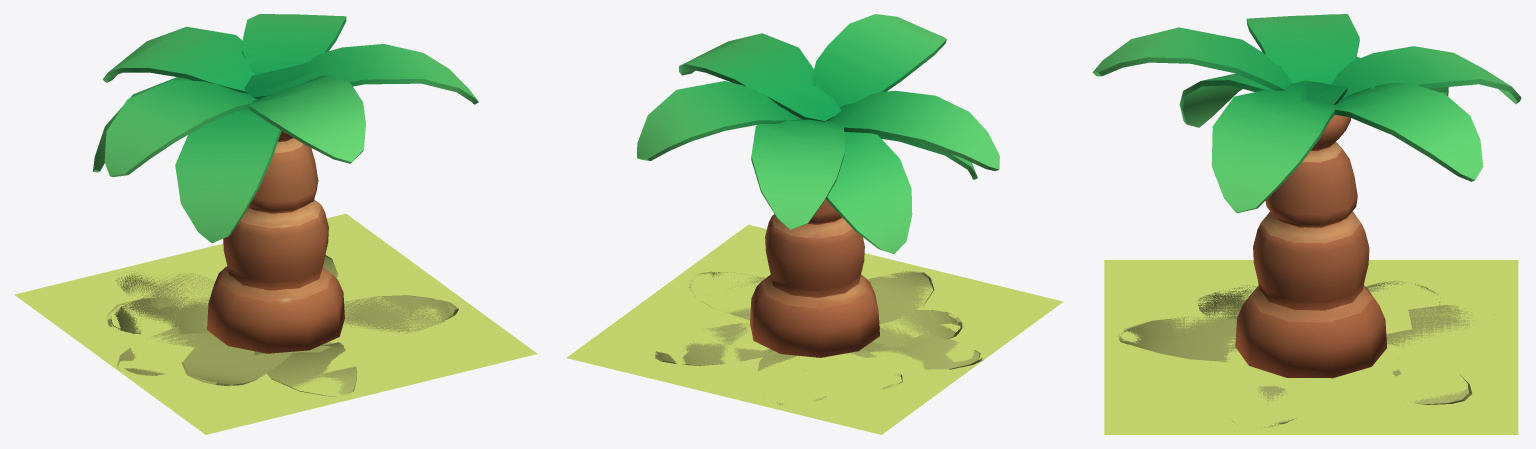
Rendered from PalmTree.fbx.
3 views of the same model, side by side, from view 1: azimuth 30°, elevation 25°; view 2: azimuth 150°, elevation 25°; view 3: azimuth 270°, elevation 25° (orthographic). The views are drawn at different scales.
Visible parts, largest first — view 1: PalmTreeLeaves, PalmTreeGrid1, PalmTree, PalmTree1; view 2: PalmTreeLeaves, PalmTreeGrid1, PalmTree, PalmTree1, PalmTreeGrid; view 3: PalmTreeGrid1, PalmTreeLeaves, PalmTree, PalmTree1, PalmTreeGrid.
Part boxes in pixels (x1=…): PalmTreeLeaves: x1=93, y1=14, x2=478, y2=243; PalmTreeGrid1: x1=14, y1=213, x2=537, y2=434; PalmTree: x1=207, y1=131, x2=344, y2=353; PalmTree1: x1=107, y1=255, x2=458, y2=396; PalmTreeLeaves: x1=637, y1=14, x2=999, y2=253; PalmTreeGrid1: x1=566, y1=224, x2=1063, y2=434; PalmTree: x1=750, y1=117, x2=879, y2=357; PalmTree1: x1=655, y1=271, x2=982, y2=404; PalmTreeGrid: x1=733, y1=320, x2=897, y2=364; PalmTreeGrid1: x1=1104, y1=260, x2=1518, y2=434; PalmTreeLeaves: x1=1092, y1=14, x2=1521, y2=213; PalmTree: x1=1235, y1=115, x2=1386, y2=378; PalmTree1: x1=1118, y1=280, x2=1474, y2=427; PalmTreeGrid: x1=1242, y1=357, x2=1380, y2=376.
Size of the model in its own units: 315 by 239 by 311.
